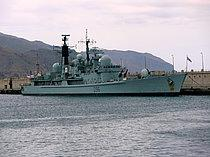MIL_Ship: (20, 27, 190, 97)
